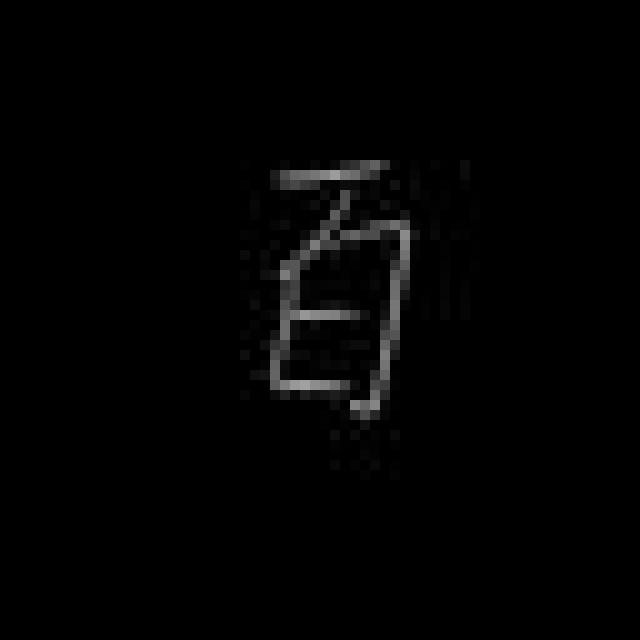100 -a hundred-: (247, 151, 426, 414)
